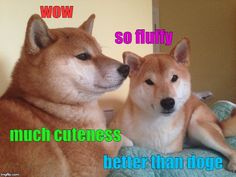doge: (18, 6, 128, 122), (122, 46, 189, 120)
